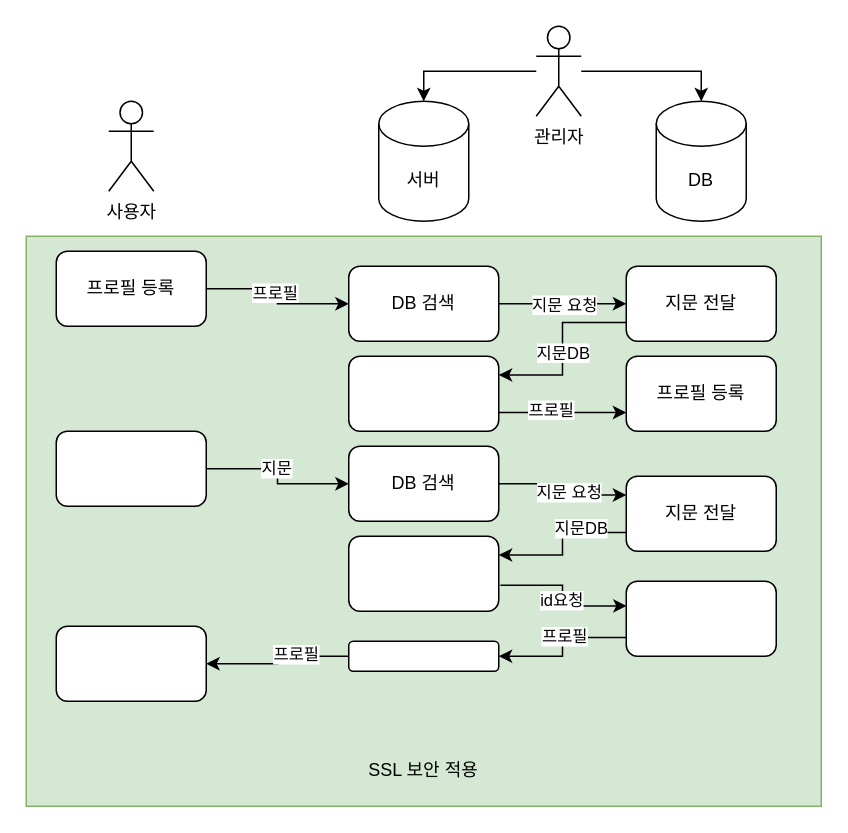
Some shapes in this 848 by 833 pixel diagram are drawn without their labels. Here are the shapes that lost their labels. From the top down, the box of each, then its label:
(347, 355, 499, 431): 중복 검증
(55, 430, 206, 506): 지문 인식
(347, 535, 499, 611): 지문 비교
(625, 580, 776, 656): 프로필 전달
(55, 625, 206, 701): 프로필 출력
